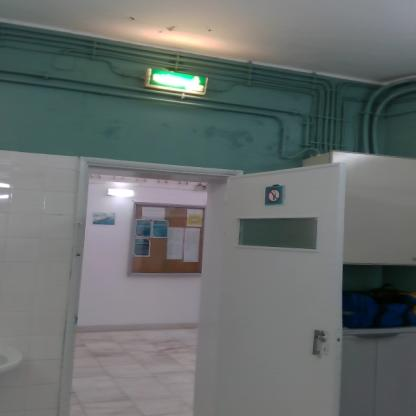open: (72, 147, 355, 416)
